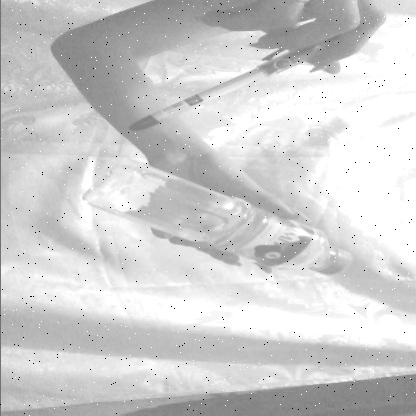Plastic Bottle: (35, 159, 411, 288)
